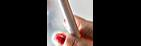Cigarette: (52, 0, 80, 36)
